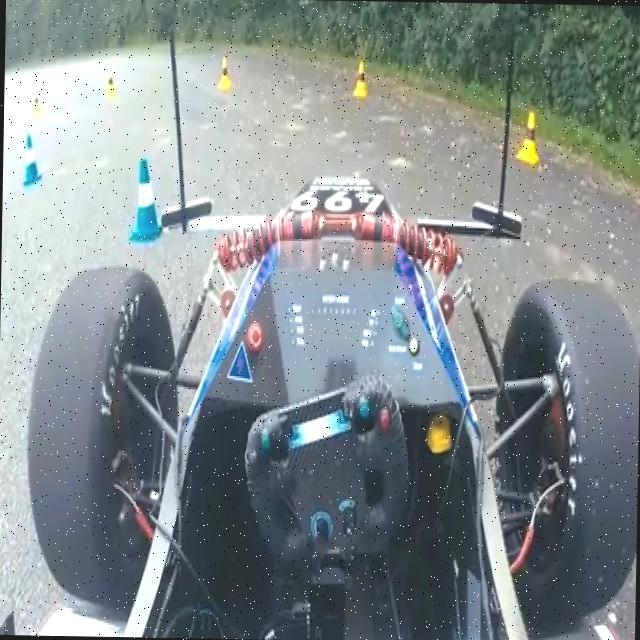blue_cone: (124, 150, 163, 246), (20, 133, 43, 187)
yellow_cone: (516, 110, 538, 166), (351, 54, 368, 100), (216, 56, 233, 94), (104, 68, 116, 98), (32, 92, 42, 124)
